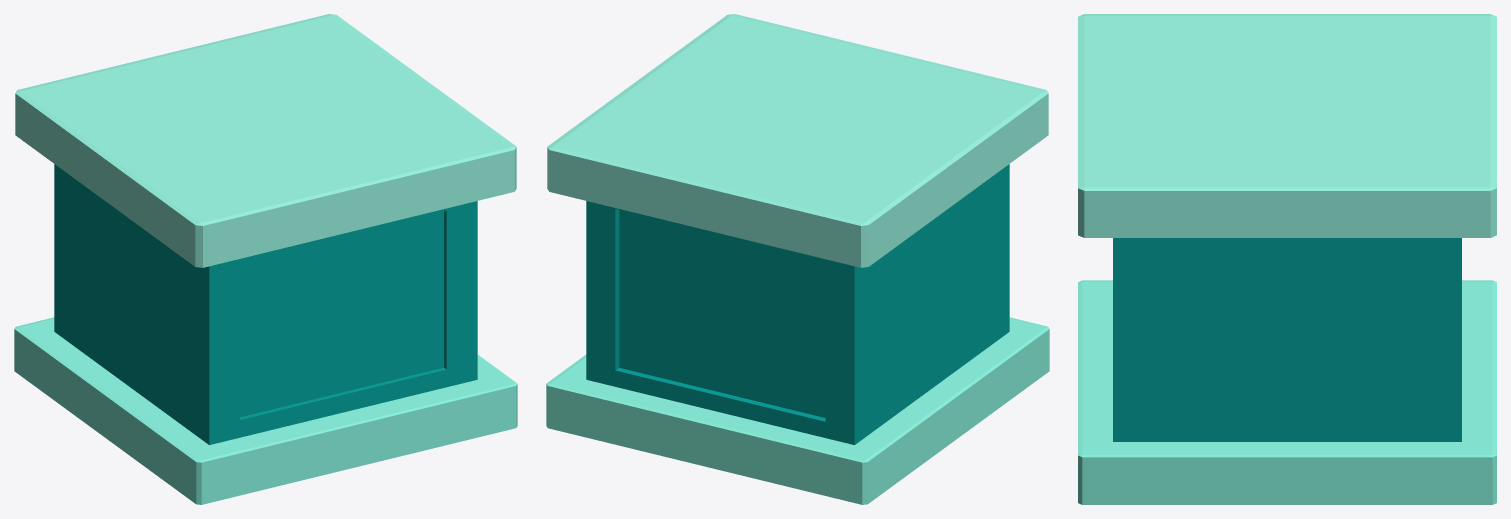
3 renders of one model, left to right at view 1: azimuth 30°, elevation 25°; view 2: azimuth 150°, elevation 25°; view 3: azimuth 270°, elevation 25°, orthographic. The views are drawn at different scales.
Parts seen in each view (by area): view 1: Cube.001, Cube, Cube.002; view 2: Cube.001, Cube, Cube.002; view 3: Cube.001, Cube, Cube.002.
Boxes of the visible parts, <box> form: Cube.001: <box>15,14,516,267</box>; Cube: <box>54,164,477,444</box>; Cube.002: <box>14,317,517,504</box>; Cube.001: <box>547,14,1048,267</box>; Cube: <box>586,164,1009,444</box>; Cube.002: <box>546,317,1049,504</box>; Cube.001: <box>1078,14,1496,237</box>; Cube: <box>1113,238,1461,441</box>; Cube.002: <box>1078,280,1496,504</box>.
Size of the model in its own units: 240 by 199 by 240.
